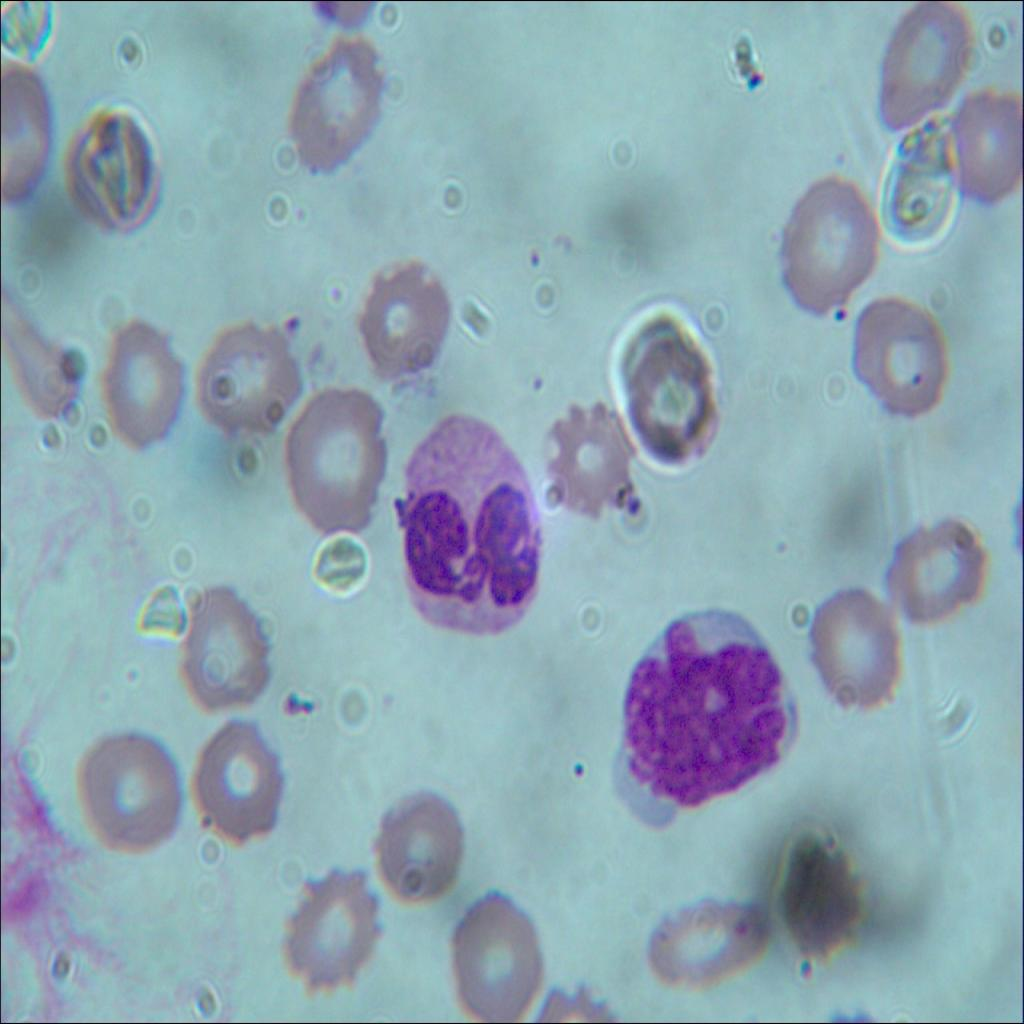Eritrosit: (278, 44, 396, 186), (74, 726, 186, 868), (806, 575, 908, 728), (363, 774, 475, 909), (283, 382, 384, 531), (779, 174, 882, 318), (854, 285, 955, 431), (620, 314, 718, 460), (874, 0, 974, 141), (448, 881, 542, 1023), (282, 859, 378, 998), (643, 892, 769, 997), (773, 838, 870, 964), (189, 327, 304, 432), (62, 118, 166, 232), (96, 322, 190, 448), (355, 268, 451, 384), (876, 521, 986, 622), (203, 719, 283, 855), (179, 591, 271, 708), (553, 394, 628, 520), (949, 89, 1023, 208), (0, 65, 56, 208)
Limfoblast: (626, 604, 798, 822)
Neutrofil: (390, 419, 541, 627)
Platelet: (524, 358, 555, 404), (830, 292, 854, 335), (566, 751, 592, 785), (278, 308, 302, 342), (524, 236, 542, 277), (908, 364, 924, 391)
